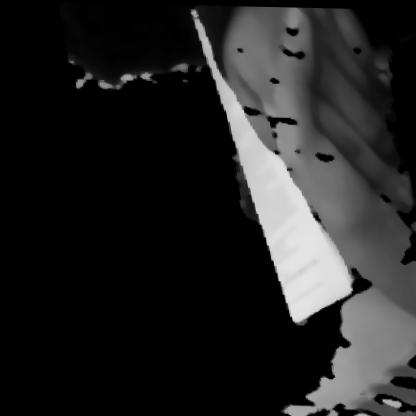handshake: (202, 4, 415, 383)
